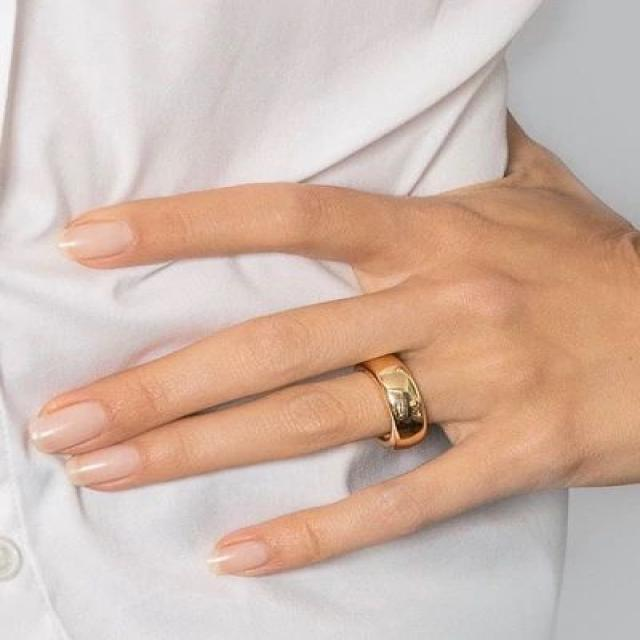Fingernail: (29, 402, 107, 453), (58, 221, 133, 259), (67, 446, 138, 486), (209, 542, 268, 573)
